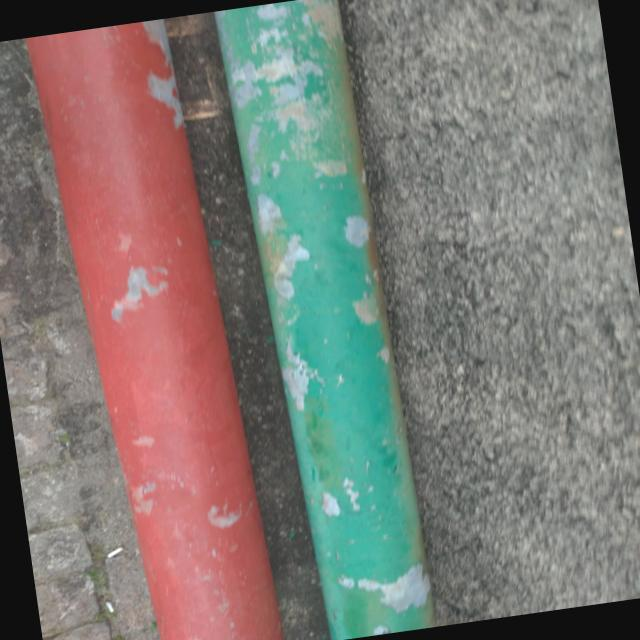gas: (24, 19, 284, 640), (210, 0, 434, 640)
